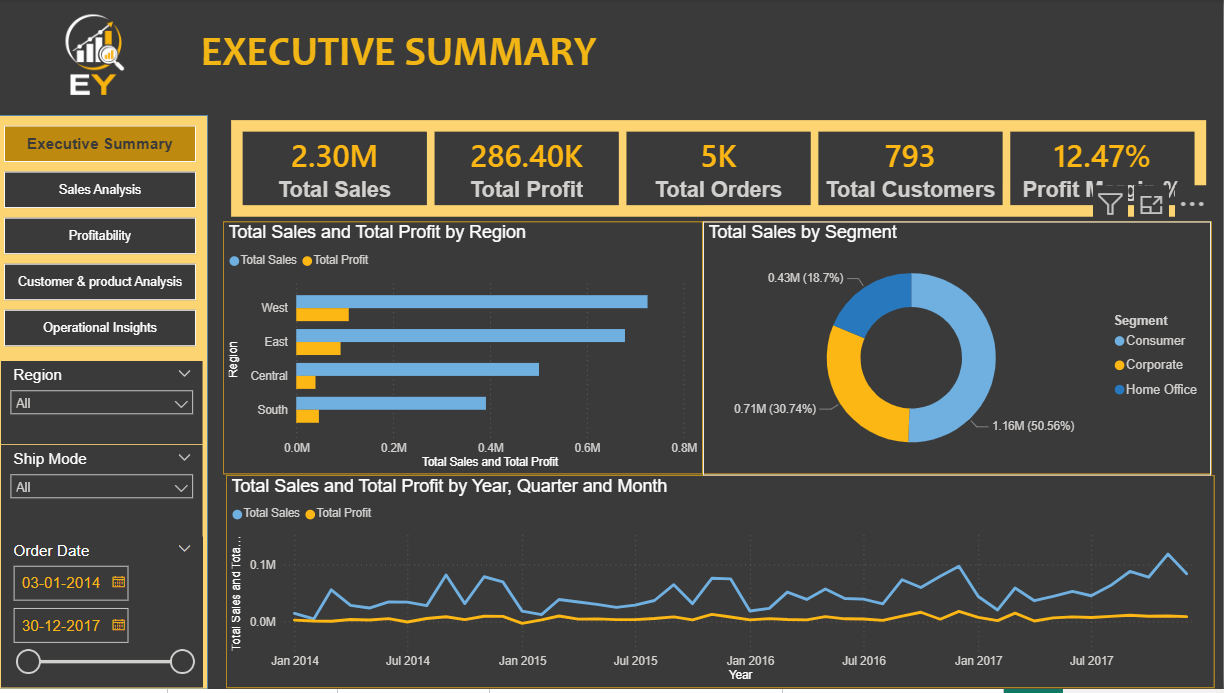

The dashboard page shown, as its layout file describes it:
{"tool":"powerbi","page":{"name":"Executive Summary","canvas":[1280,720],"ordinal":0},"visuals":[{"type":"textbox","box":[210,23.3,1058.3,98.3],"z":0},{"type":"shape","box":[0,121.9,221.9,598.6],"z":1000},{"type":"cardVisual","fields":{"Data":["Data.Total Sales","Data.Total Profit","Data.Total Orders","Customer.Total Customers","Data.Profit Margin %"]},"box":[240,121.7,1030,111.7],"z":2000},{"type":"image","box":[0,0,200.1,121.9],"z":3000},{"type":"lineChart","fields":{"Y":["Data.Total Sales","Data.Total Profit"],"Category":["Data.Order Date.Variation.Date Hierarchy.Year","Data.Order Date.Variation.Date Hierarchy.Quarter","Data.Order Date.Variation.Date Hierarchy.Month","Data.Order Date.Variation.Date Hierarchy.Day"]},"box":[240,496.7,1030,221.7],"z":4000},{"type":"clusteredBarChart","fields":{"Category":["Location.Region"],"Y":["Data.Total Sales","Data.Total Profit"]},"box":[238.3,233.3,500,263.3],"z":5000},{"type":"donutChart","fields":{"Category":["Segment.Segment"],"Y":["Data.Total Sales"]},"box":[738.3,233.3,530,263.3],"z":6000},{"type":"pageNavigator","box":[10,133.3,200,231.7],"z":7000},{"type":"slicer","fields":{"Values":["Location.Region"]},"box":[6.7,378.3,210,86.7],"z":8000},{"type":"slicer","fields":{"Values":["ShipMode.Ship Mode"]},"box":[6.7,465,210,96.7],"z":9000},{"type":"slicer","fields":{"Values":["Data.Order Date"]},"box":[6.7,561.7,210,156.7],"z":10000}]}

Visuals, with their boxes in screenshot pixels (x1, y1, x2, y2), scaled from the page's 1280x720 canvas onto the 1224x693 screenshot:
textbox: (left=201, top=22, right=1213, bottom=117)
shape: (left=0, top=117, right=212, bottom=692)
cardVisual - Data.Total Sales x Data.Total Profit: (left=230, top=117, right=1214, bottom=225)
image: (left=0, top=0, right=191, bottom=117)
lineChart - Data.Total Sales x Data.Total Profit: (left=230, top=478, right=1214, bottom=691)
clusteredBarChart - Location.Region x Data.Total Sales: (left=228, top=225, right=706, bottom=478)
donutChart - Segment.Segment x Data.Total Sales: (left=706, top=225, right=1213, bottom=478)
pageNavigator: (left=10, top=128, right=201, bottom=351)
slicer - Location.Region: (left=6, top=364, right=207, bottom=448)
slicer - ShipMode.Ship Mode: (left=6, top=448, right=207, bottom=541)
slicer - Data.Order Date: (left=6, top=541, right=207, bottom=691)
